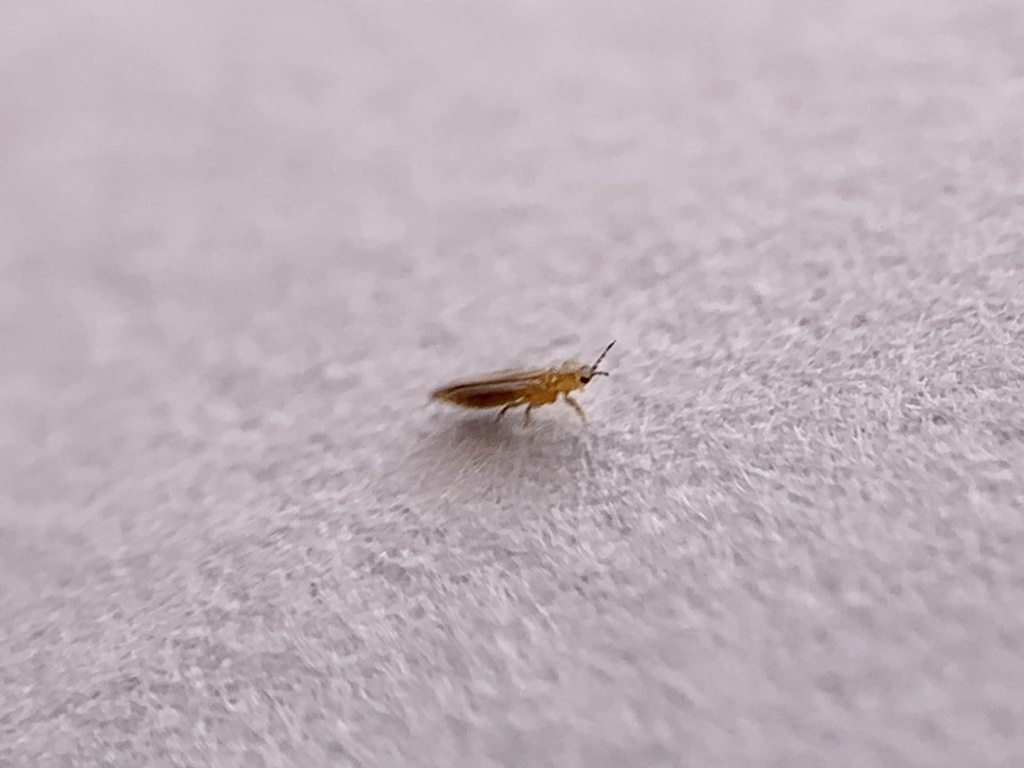tiny_pests: (380, 293, 662, 490)
